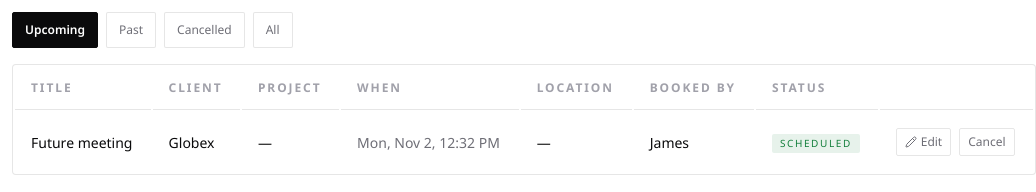
Scenario: MeetingsTable › switches to the Past filter
Click the button "Past" at (131, 30), box [106, 12, 156, 48]
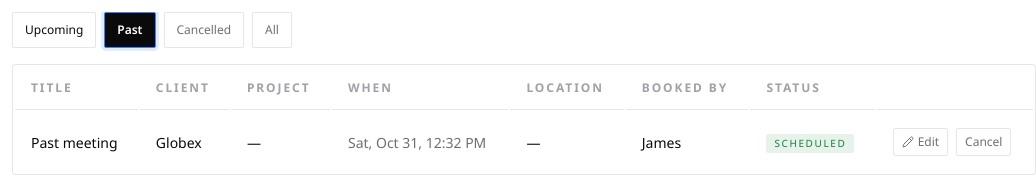
Expected: the text "Past meeting" is shown, [15, 112, 138, 172]
Expected: the text "Future meeting" is gone
